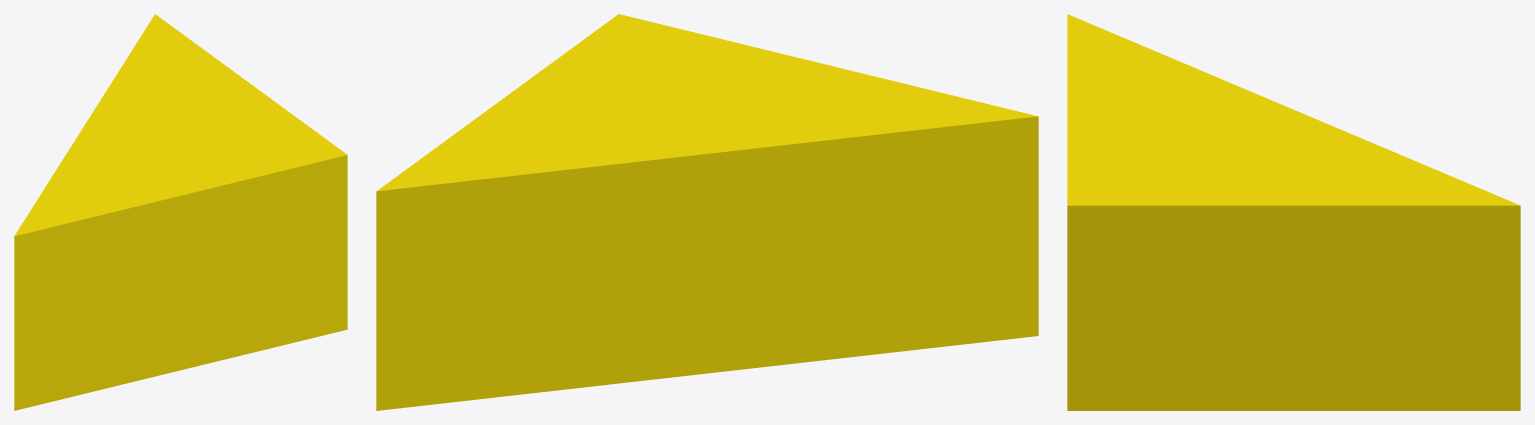
File: triforce.glb
The picture shows the model from 3 angles, left to right: view 1: azimuth 30°, elevation 25°; view 2: azimuth 150°, elevation 25°; view 3: azimuth 270°, elevation 25°; orthographic projection. The views are drawn at different scales.
Parts seen in each view (by area): view 1: Cube; view 2: Cube; view 3: Cube.
Part boxes in pixels (x1,y1,x2,y2): Cube: [14, 14, 347, 410]; Cube: [376, 14, 1038, 410]; Cube: [1067, 14, 1520, 410].
Size of the model in its own units: 2 by 1 by 2.
